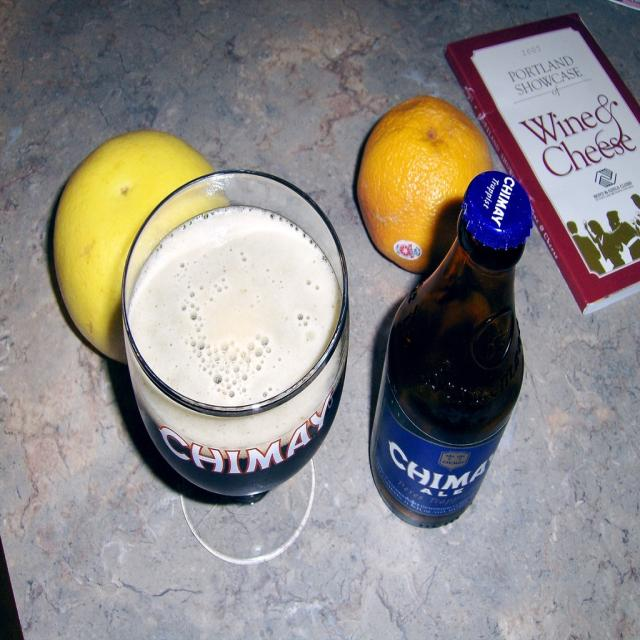chimay: (156, 392, 343, 484), (372, 406, 499, 517), (486, 175, 519, 230)
